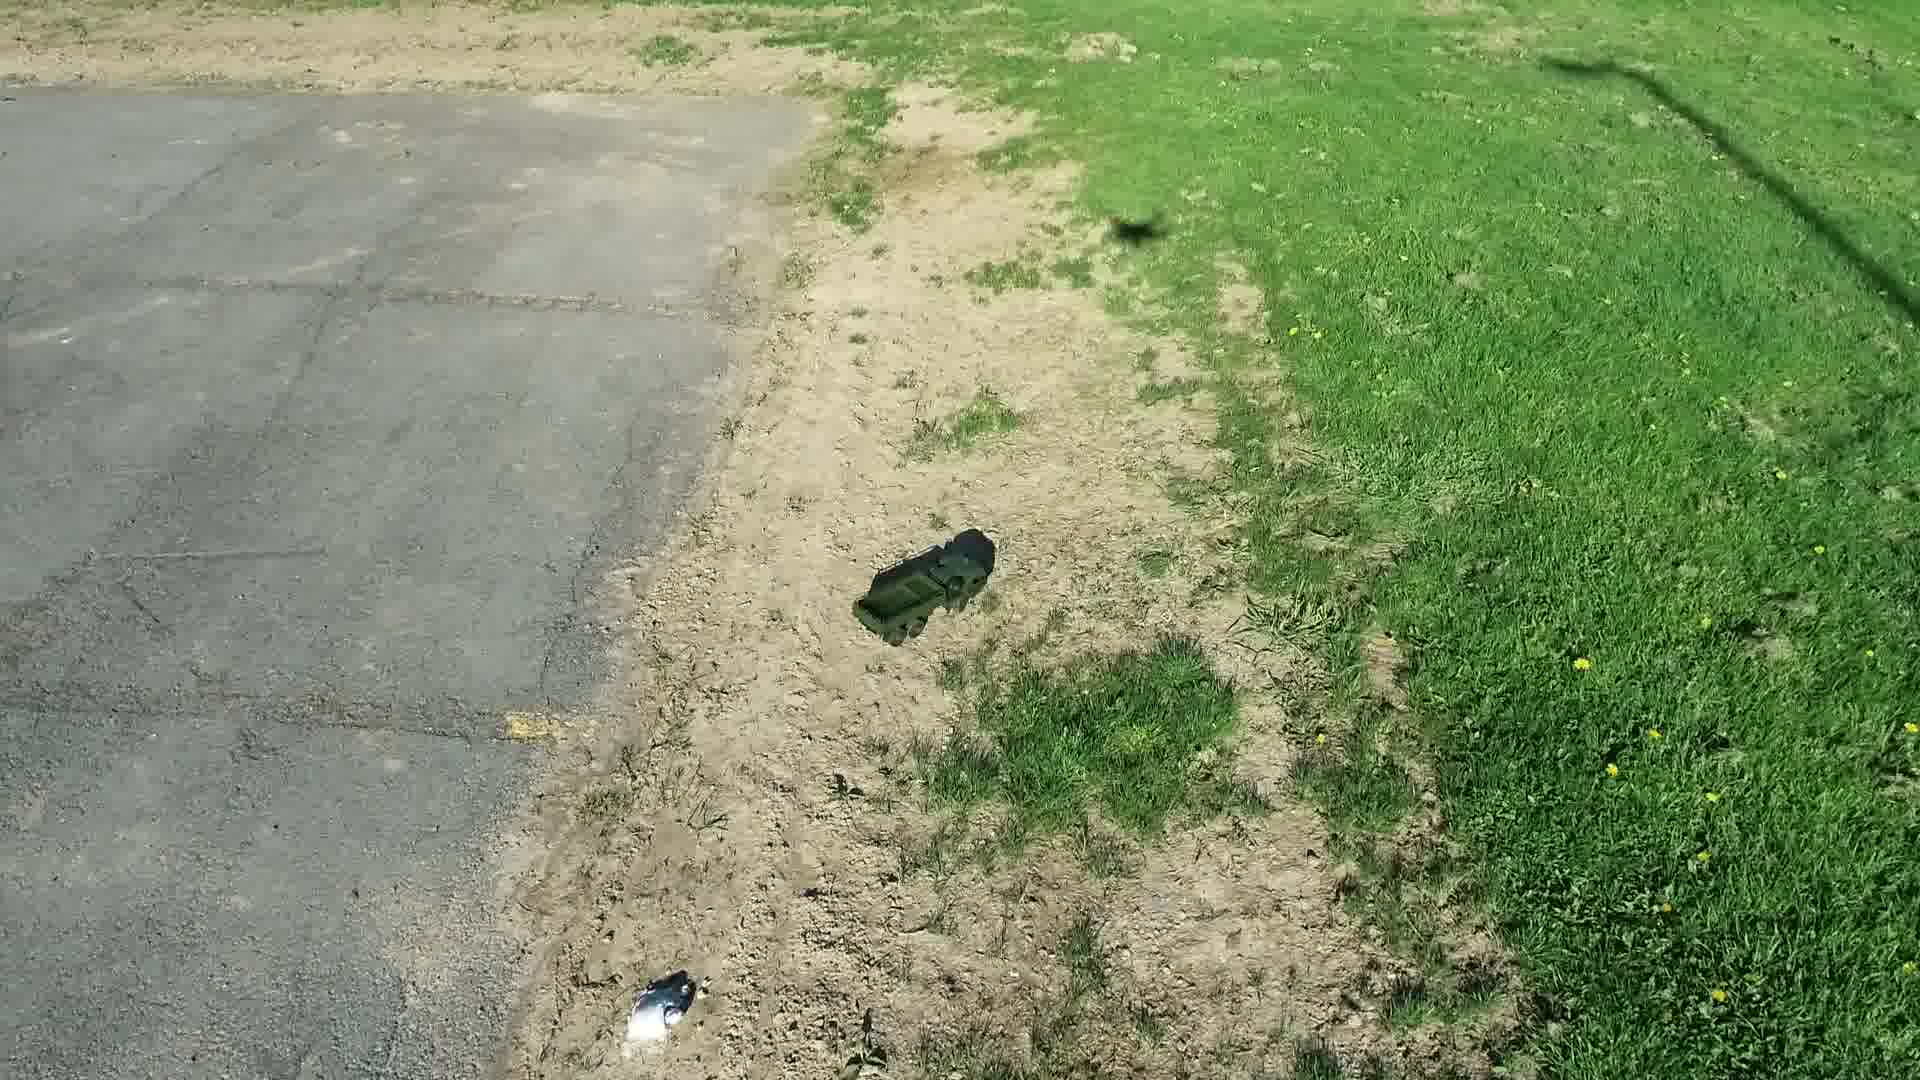transporter9: (835, 535, 1001, 646)
